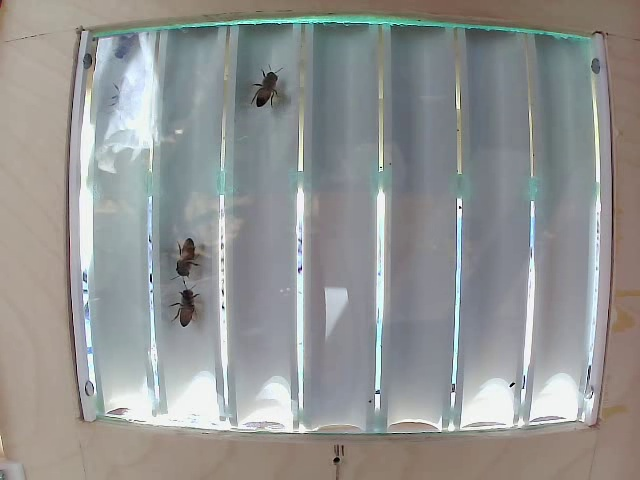bee: (162, 283, 199, 331), (167, 238, 208, 275), (252, 65, 286, 100)
